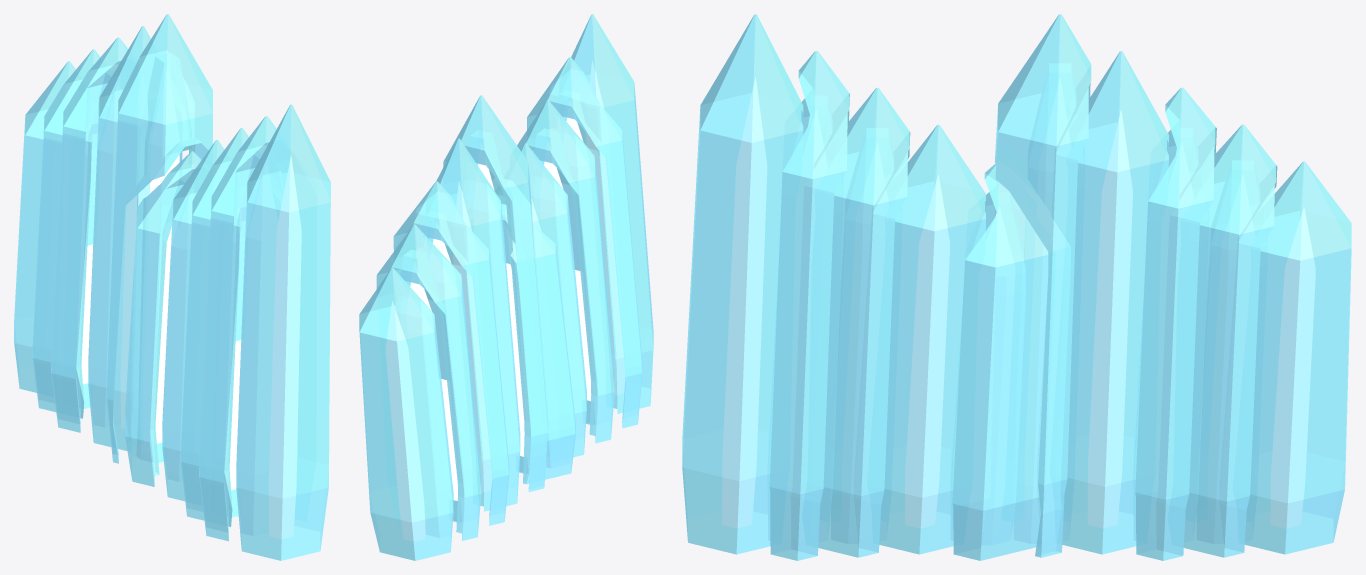
The model's file is h18_crystal_bank_sw_deco.fbx.
The picture shows the model from 3 angles, left to right: view 1: azimuth 30°, elevation 25°; view 2: azimuth 150°, elevation 25°; view 3: azimuth 270°, elevation 25°; orthographic projection. The views are drawn at different scales.
Visible parts, largest first — view 1: h18_crystal_bank_sw_deco__Ice, h18_crystal_bank_sw_deco__IceCore; view 2: h18_crystal_bank_sw_deco__Ice, h18_crystal_bank_sw_deco__IceCore; view 3: h18_crystal_bank_sw_deco__Ice, h18_crystal_bank_sw_deco__IceCore.
Boxes of the visible parts, x1=… form: h18_crystal_bank_sw_deco__Ice: x1=14, y1=14, x2=330, y2=560; h18_crystal_bank_sw_deco__IceCore: x1=81, y1=154, x2=301, y2=538; h18_crystal_bank_sw_deco__Ice: x1=359, y1=14, x2=653, y2=560; h18_crystal_bank_sw_deco__IceCore: x1=386, y1=61, x2=624, y2=541; h18_crystal_bank_sw_deco__Ice: x1=682, y1=14, x2=1351, y2=560; h18_crystal_bank_sw_deco__IceCore: x1=722, y1=78, x2=1315, y2=528.
Size of the model in its own units: 1.38 by 4.58 by 5.27.
